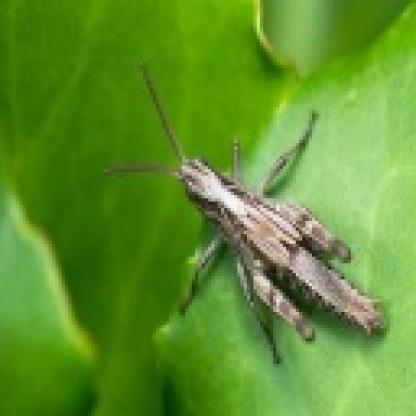grasshopper: (137, 79, 380, 354)
